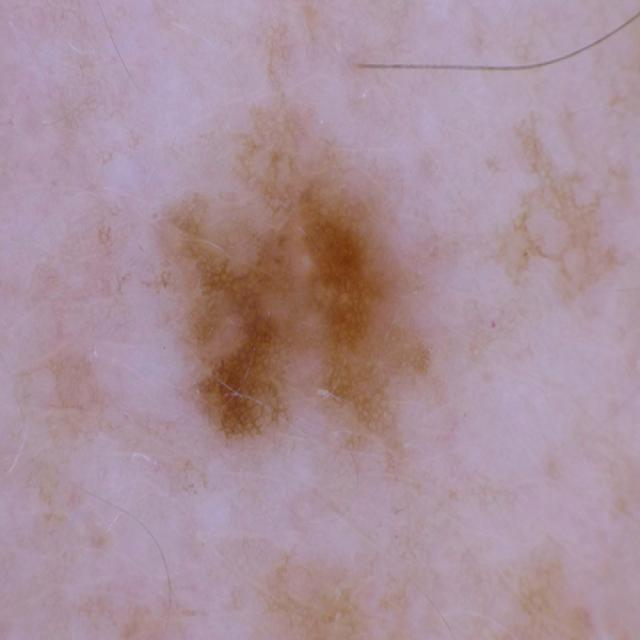Skin-Cancer Pigmented benign keratosis: (29, 38, 623, 556)
